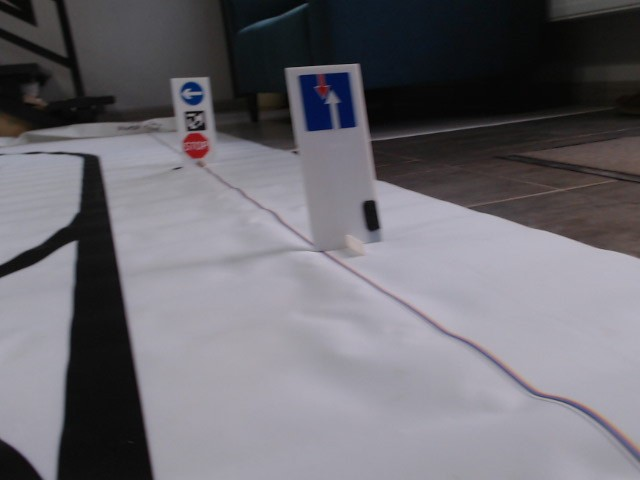Stop: (182, 131, 209, 160)
priority_movement: (298, 72, 358, 133)
